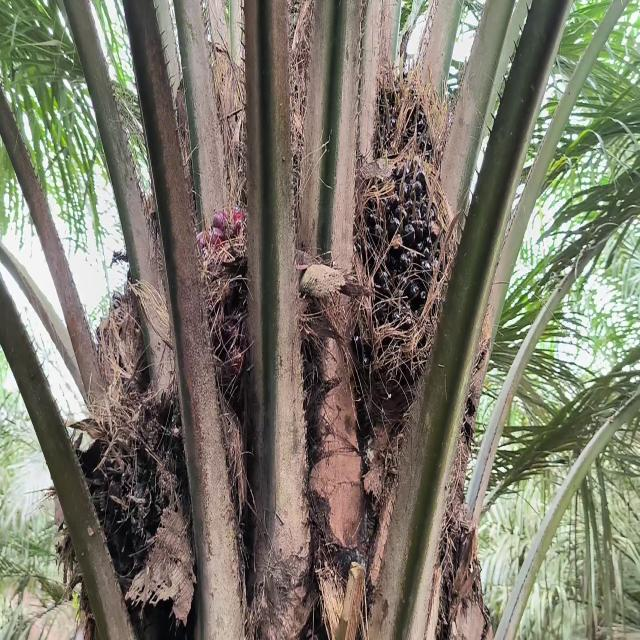palm-oil: (352, 67, 458, 400), (197, 200, 322, 471)
